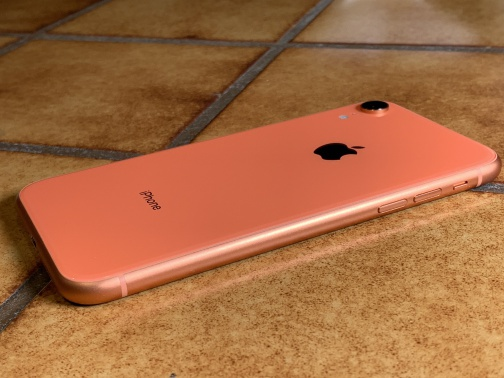apple: (306, 132, 368, 174)
